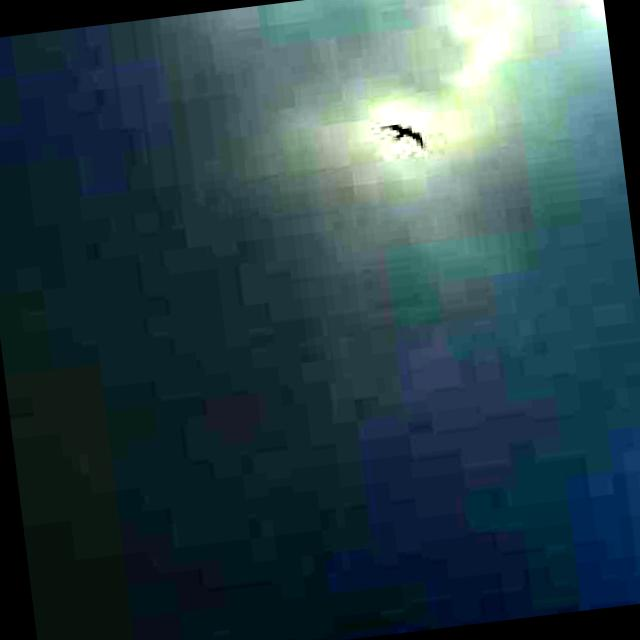bird: (380, 110, 428, 154)
